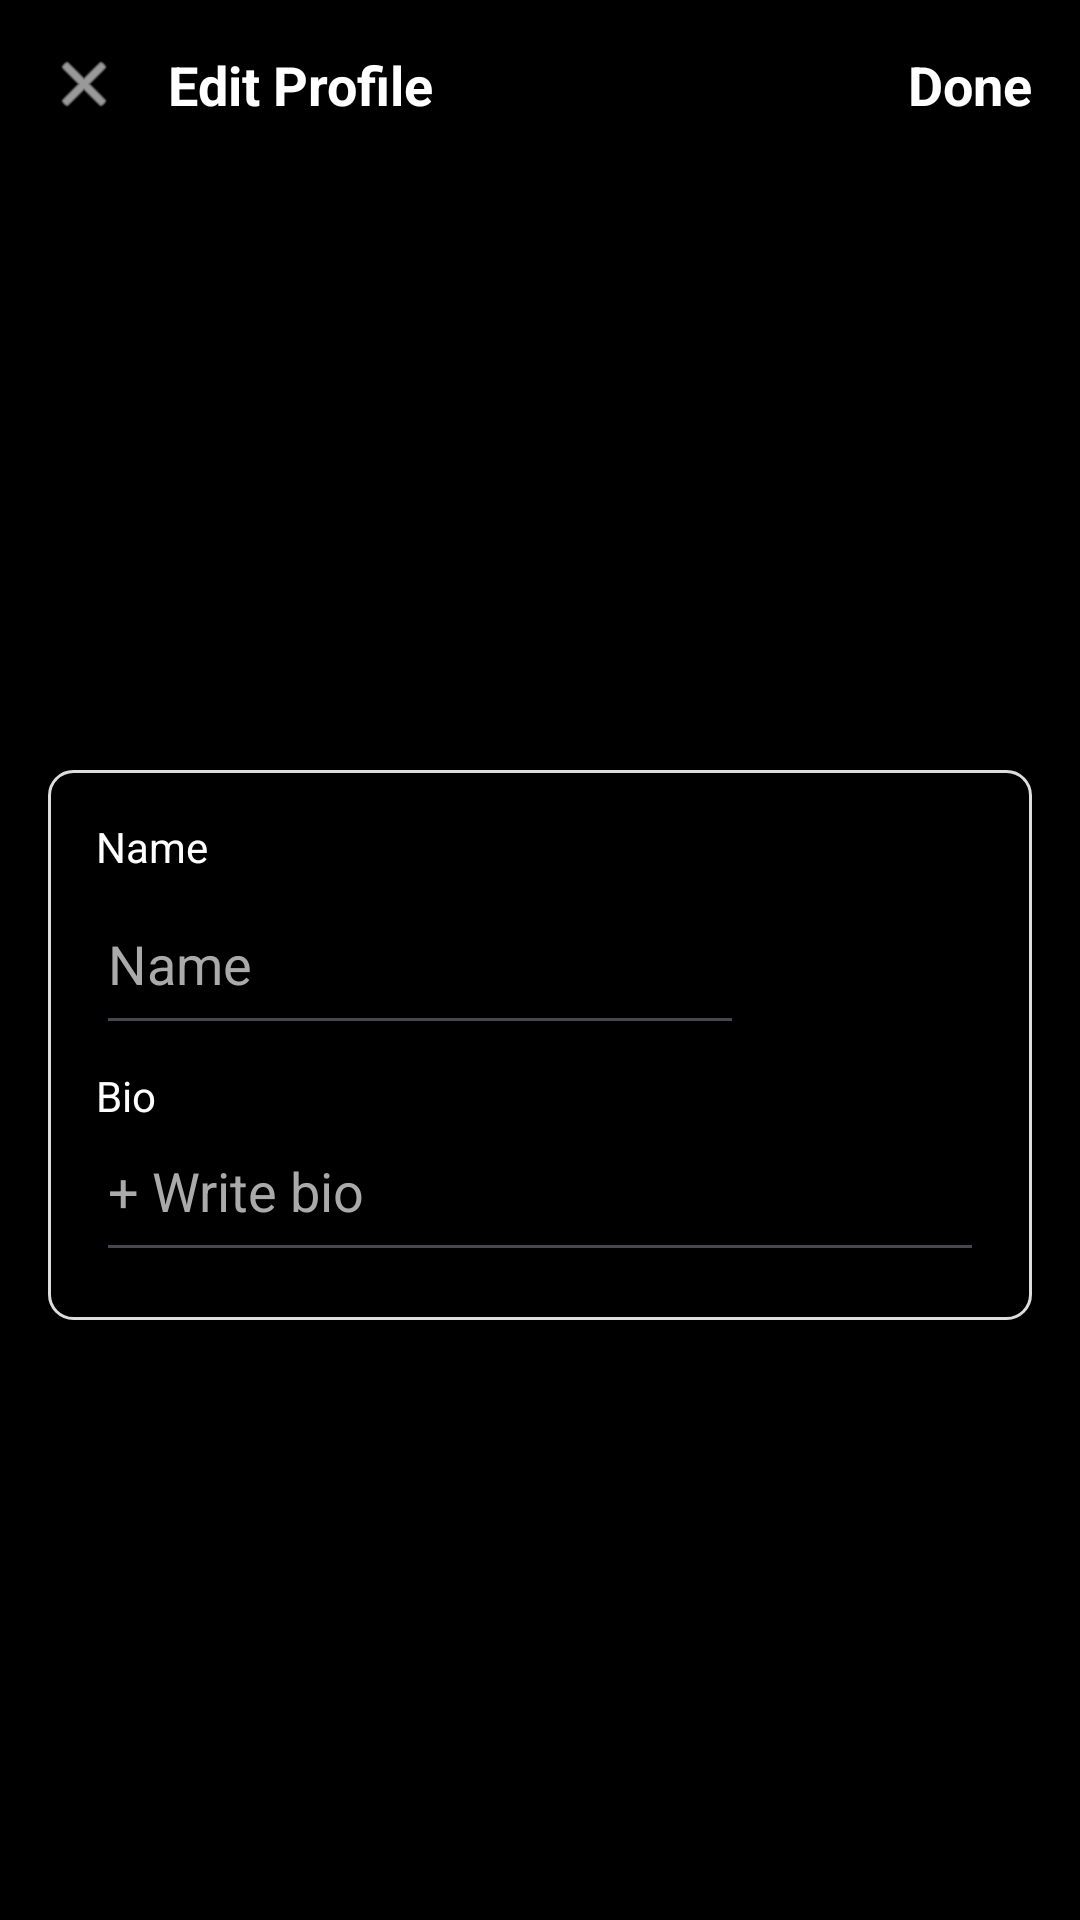

Named icons in this screenshot (1080×1920) and their centers, (x=x, y=y):
close clear cancel: (x=84, y=84)
